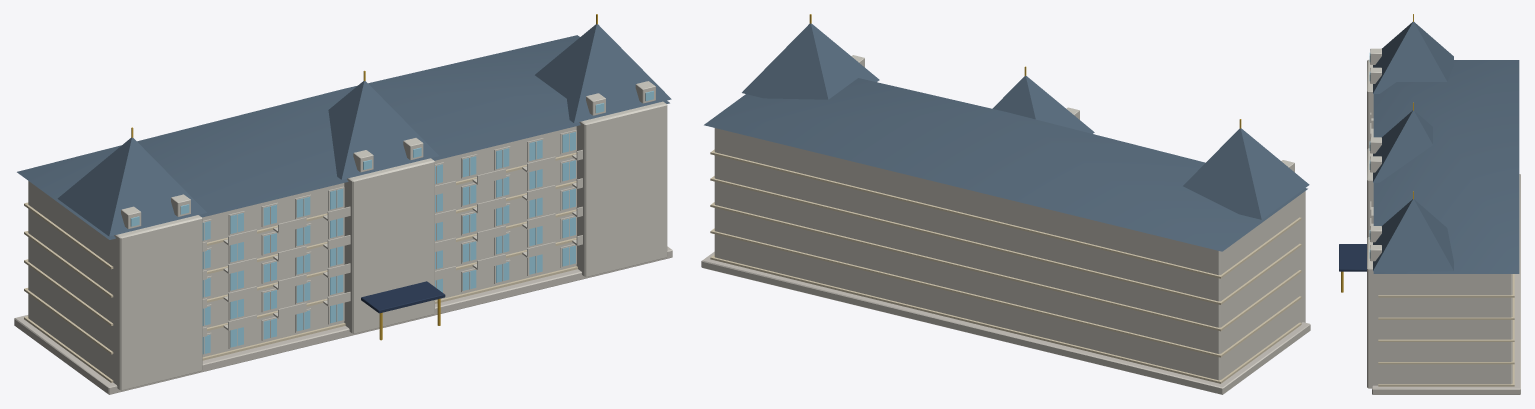
The model's file is 123_hotel_royal.fbx.
3 renders of one model, left to right at view 1: azimuth 30°, elevation 25°; view 2: azimuth 150°, elevation 25°; view 3: azimuth 270°, elevation 25°, orthographic. The views are drawn at different scales.
Parts seen in each view (by area): view 1: Murs, Toits, Vitres, Balcons; view 2: Murs, Toits; view 3: Toits, Murs.
Boxes of the visible parts, x1,y1,x2,y2 form: Murs: (14, 81, 672, 394); Toits: (17, 14, 671, 239); Vitres: (130, 91, 653, 354); Balcons: (202, 150, 582, 336); Murs: (701, 55, 1310, 394); Toits: (704, 14, 1309, 251); Toits: (1373, 14, 1519, 273); Murs: (1339, 48, 1520, 394).
Bounding box in the file's own units: 19.6 × 7.84 × 7.
Materials: 1 (1 with a texture image).
